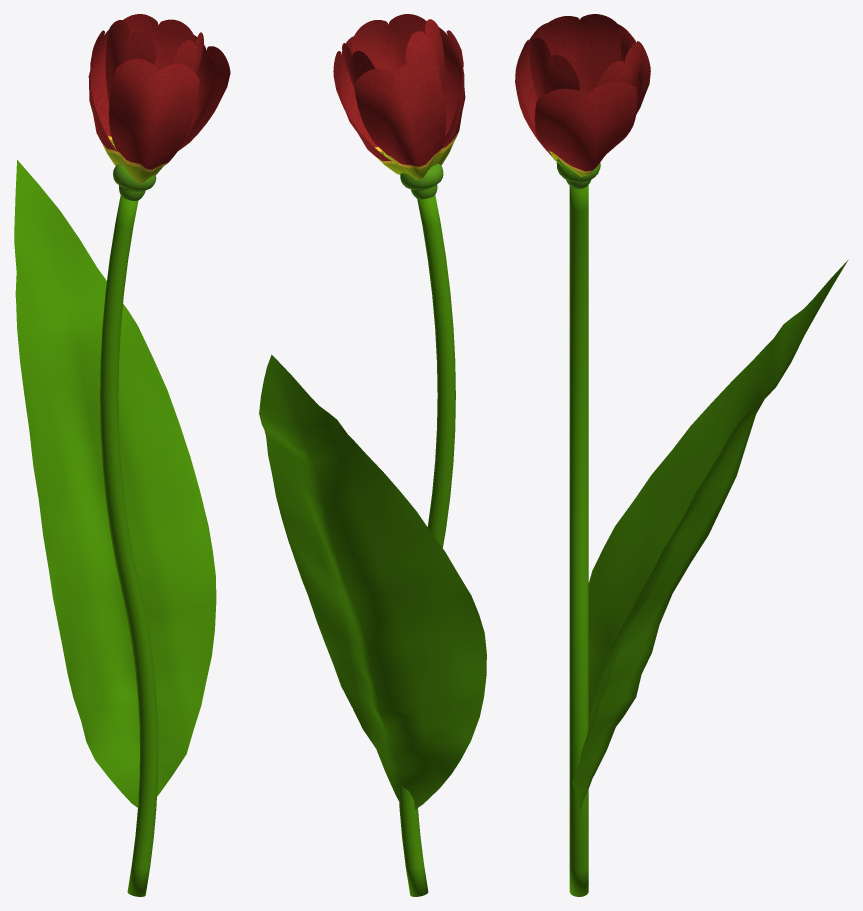
File: tulip.dae
3 views of the same model, side by side, from view 1: azimuth 30°, elevation 25°; view 2: azimuth 150°, elevation 25°; view 3: azimuth 270°, elevation 25° (orthographic).
Visible parts, largest first — view 1: group_2, group_1, group_16, group_17, group_11, group_9, group_12, group_13, group_10; view 2: group_2, group_1, group_12, group_10, group_16, group_17, group_9, group_13, group_11; view 3: group_2, group_1, group_17, group_9, group_10, group_16, group_11, group_12.
Part boxes in pixels (x1=…): group_2: x1=14, y1=160, x2=216, y2=807; group_1: x1=100, y1=195, x2=158, y2=896; group_16: x1=109, y1=58, x2=199, y2=169; group_17: x1=178, y1=35, x2=230, y2=150; group_11: x1=107, y1=14, x2=195, y2=136; group_9: x1=105, y1=20, x2=156, y2=103; group_12: x1=88, y1=29, x2=116, y2=151; group_13: x1=113, y1=164, x2=156, y2=200; group_10: x1=173, y1=32, x2=203, y2=74; group_2: x1=259, y1=354, x2=486, y2=809; group_1: x1=398, y1=195, x2=455, y2=896; group_12: x1=354, y1=60, x2=446, y2=166; group_10: x1=351, y1=14, x2=426, y2=77; group_16: x1=438, y1=27, x2=465, y2=148; group_17: x1=333, y1=36, x2=392, y2=161; group_9: x1=405, y1=19, x2=444, y2=92; group_13: x1=400, y1=163, x2=443, y2=199; group_11: x1=342, y1=43, x2=375, y2=88; group_2: x1=572, y1=259, x2=848, y2=811; group_1: x1=569, y1=185, x2=588, y2=896; group_17: x1=534, y1=81, x2=636, y2=171; group_9: x1=539, y1=14, x2=620, y2=97; group_10: x1=529, y1=37, x2=579, y2=99; group_16: x1=515, y1=23, x2=552, y2=156; group_11: x1=596, y1=42, x2=642, y2=86; group_12: x1=618, y1=24, x2=650, y2=114.
Bounding box in the file's own units: 73.81 × 125 × 361.
